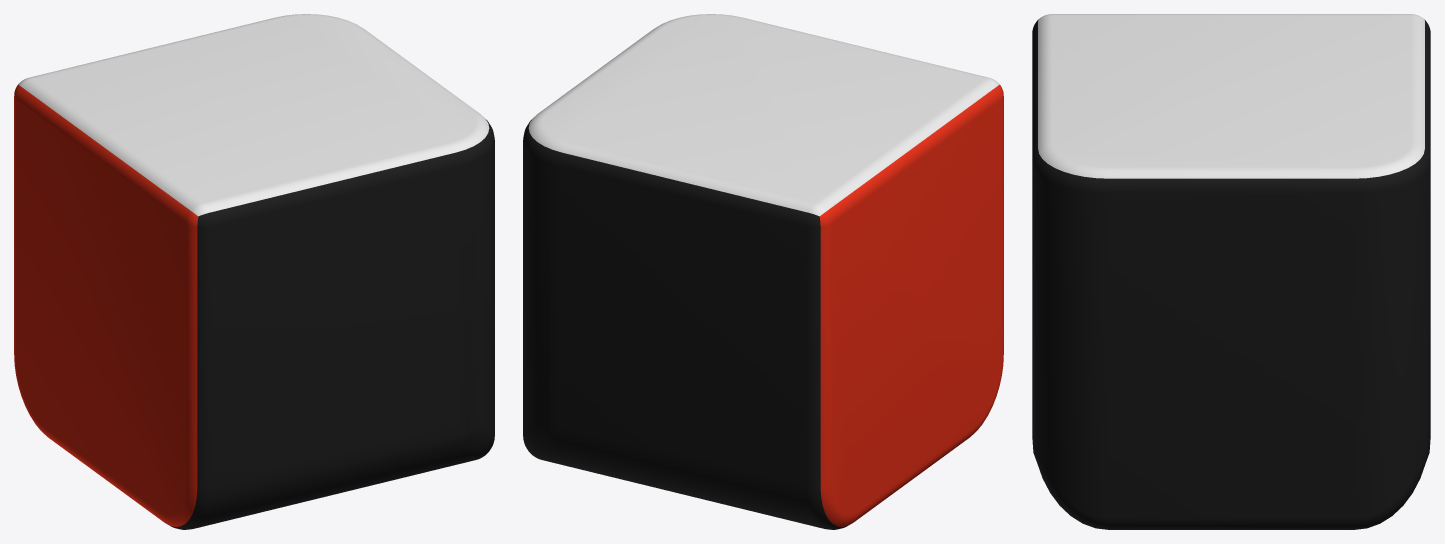
File: wr_egde.glb
3 views of the same model, side by side, from view 1: azimuth 30°, elevation 25°; view 2: azimuth 150°, elevation 25°; view 3: azimuth 270°, elevation 25° (orthographic). The views are drawn at different scales.
Parts seen in each view (by area): view 1: Cube.002; view 2: Cube.002; view 3: Cube.002.
Part boxes in pixels (x1,y1,x2,y2): Cube.002: (14, 14, 494, 529); Cube.002: (523, 14, 1003, 529); Cube.002: (1032, 14, 1430, 529).
Bounding box in the file's own units: 2 × 2 × 2.
